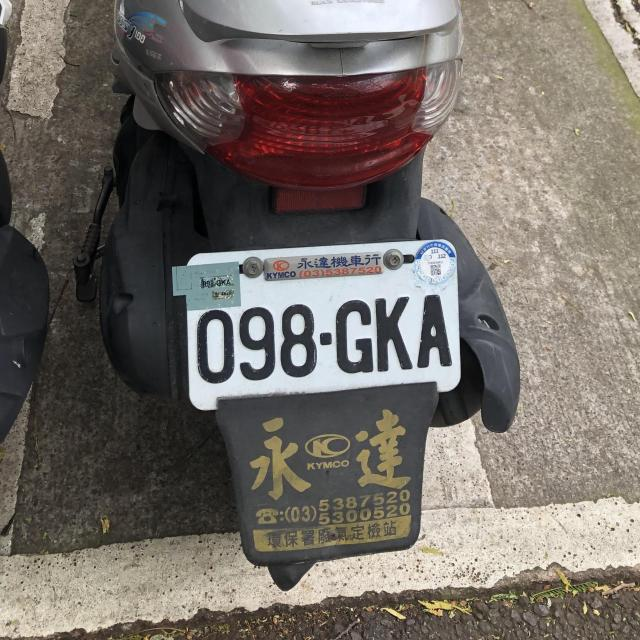W: (176, 239, 460, 408)
